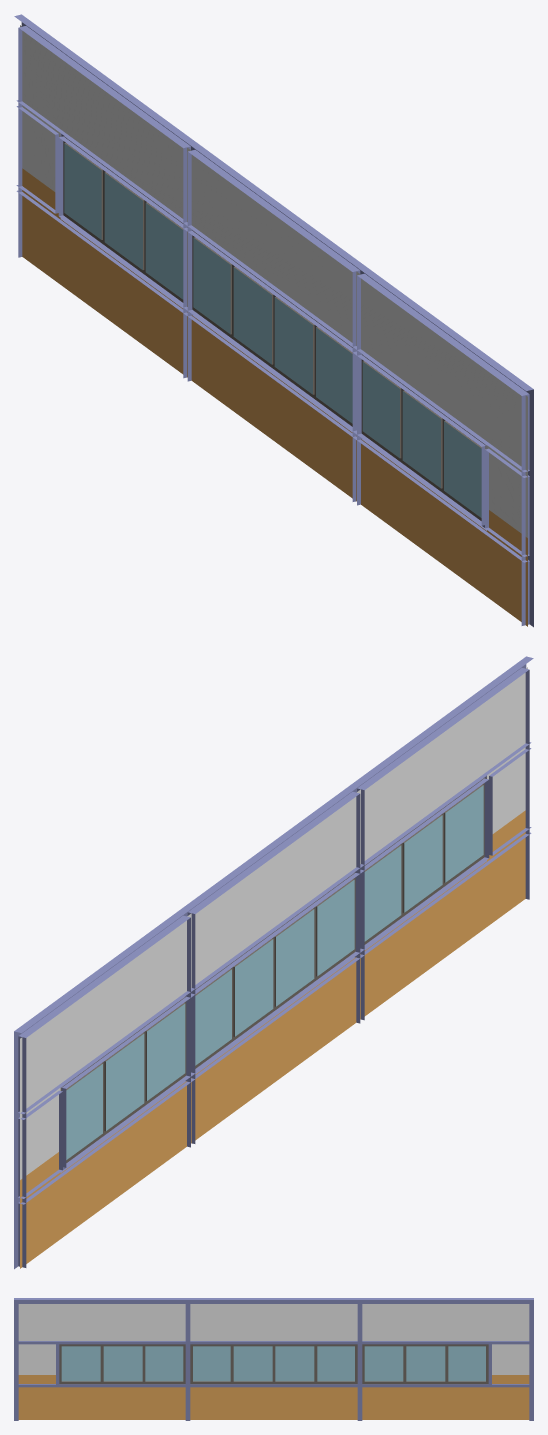
The model's file is wall_left.fbx.
The picture shows the model from 3 angles, top to bottom: view 1: azimuth 30°, elevation 25°; view 2: azimuth 150°, elevation 25°; view 3: azimuth 270°, elevation 25°; orthographic projection. The views are drawn at different scales.
Visible parts, largest first — view 1: wall_L; view 2: wall_L; view 3: wall_L.
Boxes of the visible parts, x1,y1,x2,y2 form: wall_L: (14,14,533,627); wall_L: (14,656,533,1269); wall_L: (14,1298,533,1420).
Bounding box in the file's own units: 17.56 × 518 × 2018.
